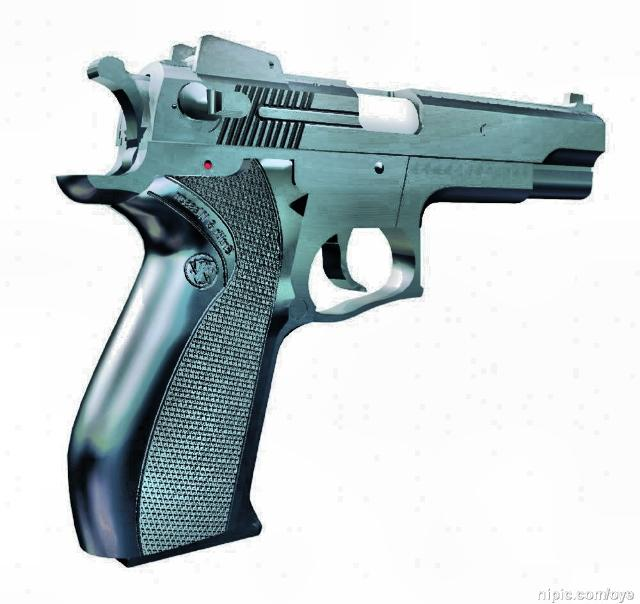pistol: (56, 34, 604, 570)
